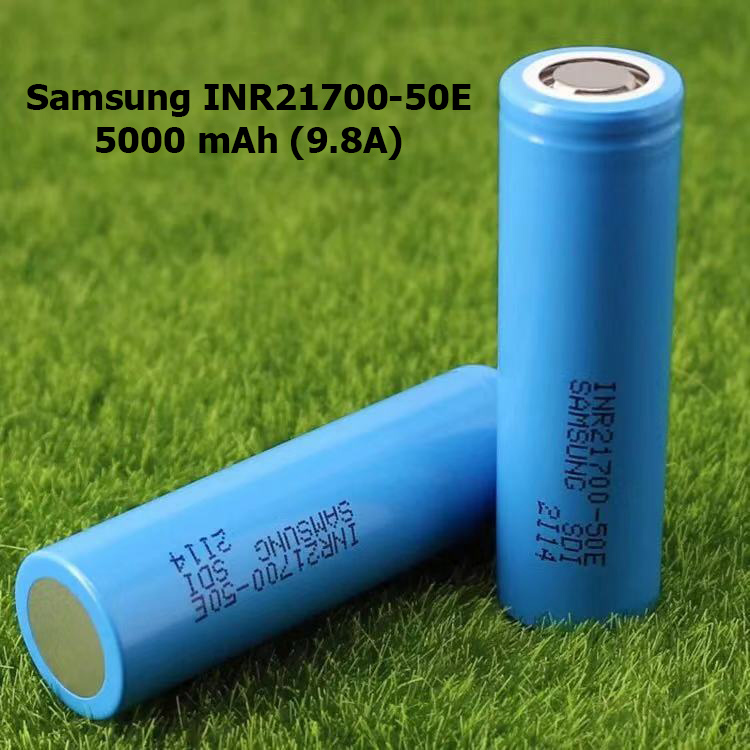Battery: (13, 361, 498, 727), (490, 40, 689, 638)
